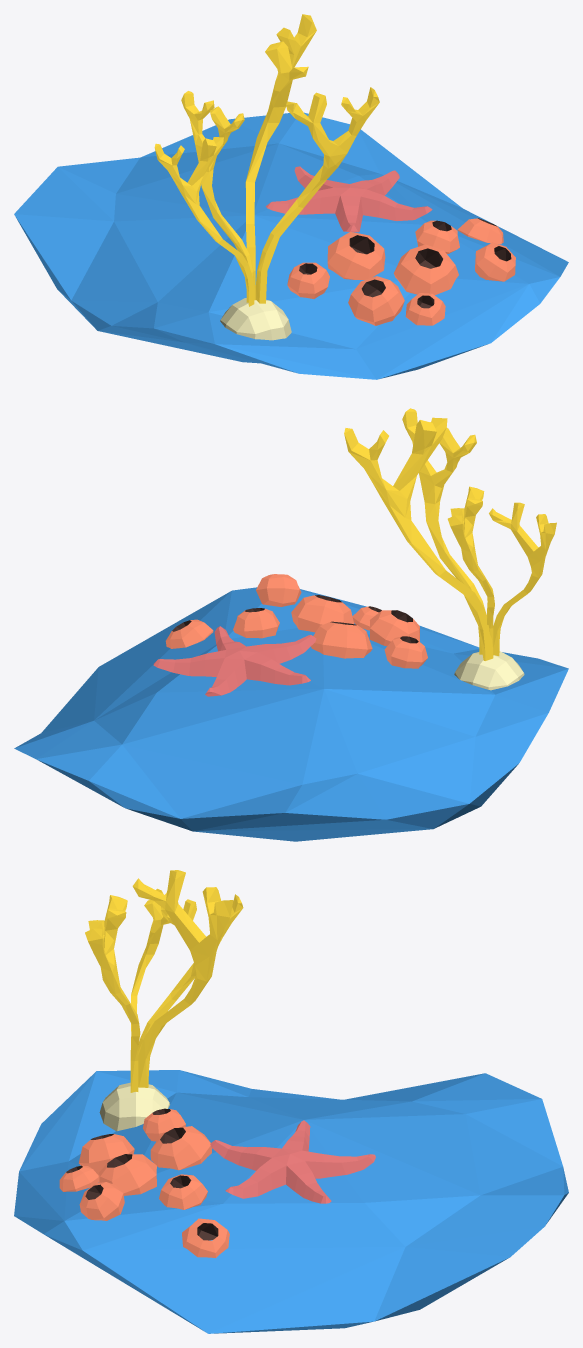
Rendered from Coralls_017.glb.
3 renders of one model, top to bottom at view 1: azimuth 30°, elevation 25°; view 2: azimuth 150°, elevation 25°; view 3: azimuth 270°, elevation 25°, orthographic. The views are drawn at different scales.
Visible parts, largest first — view 1: Coralls_017; view 2: Coralls_017; view 3: Coralls_017.
Boxes of the visible parts, left/top/right/bottom form: Coralls_017: left=14, top=14, right=568, bottom=379; Coralls_017: left=14, top=408, right=568, bottom=841; Coralls_017: left=14, top=870, right=568, bottom=1333.
Bounding box in the file's own units: 1.93 × 1.51 × 2.09.
Materials: 2 (2 with a texture image).
